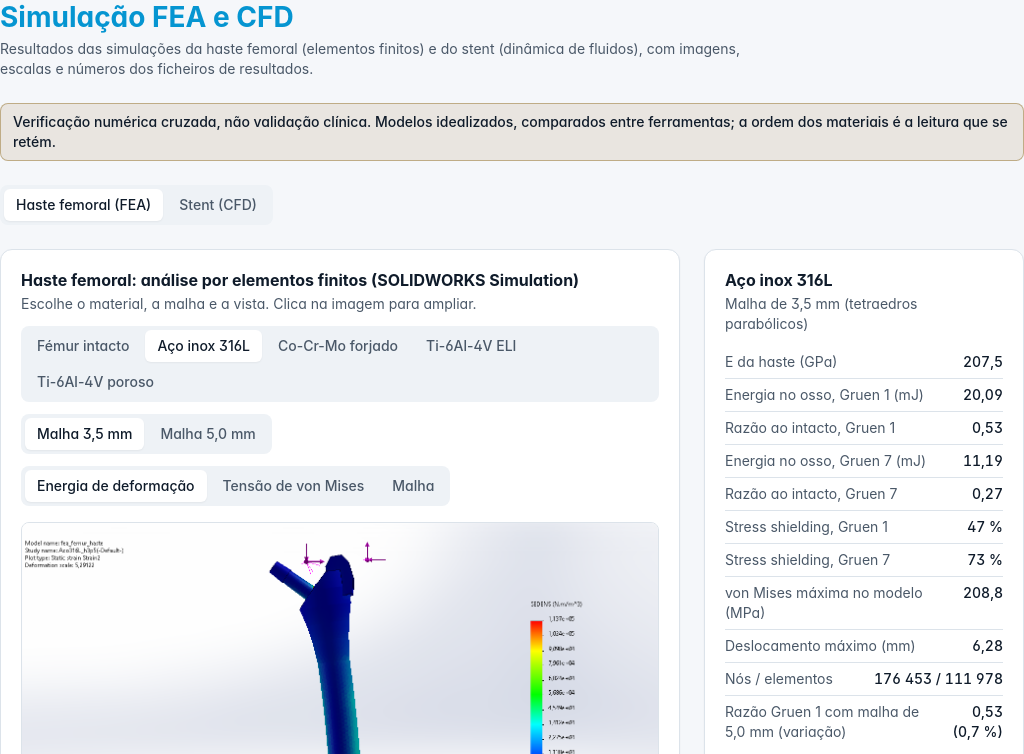
Test case: mapas de von Mises do MAPDL › o separador 'Tensão de von Mises' mostra a imagem do MAPDL, o corte, os máximos e a nota da malha
This screenshot has width=1024, height=754.
What coordinates should you click on to do the following:
click the radio button labelled "Tensão de von Mises"
I would click on:
 (293, 486)
Its box is left=211, top=470, right=376, bottom=502.
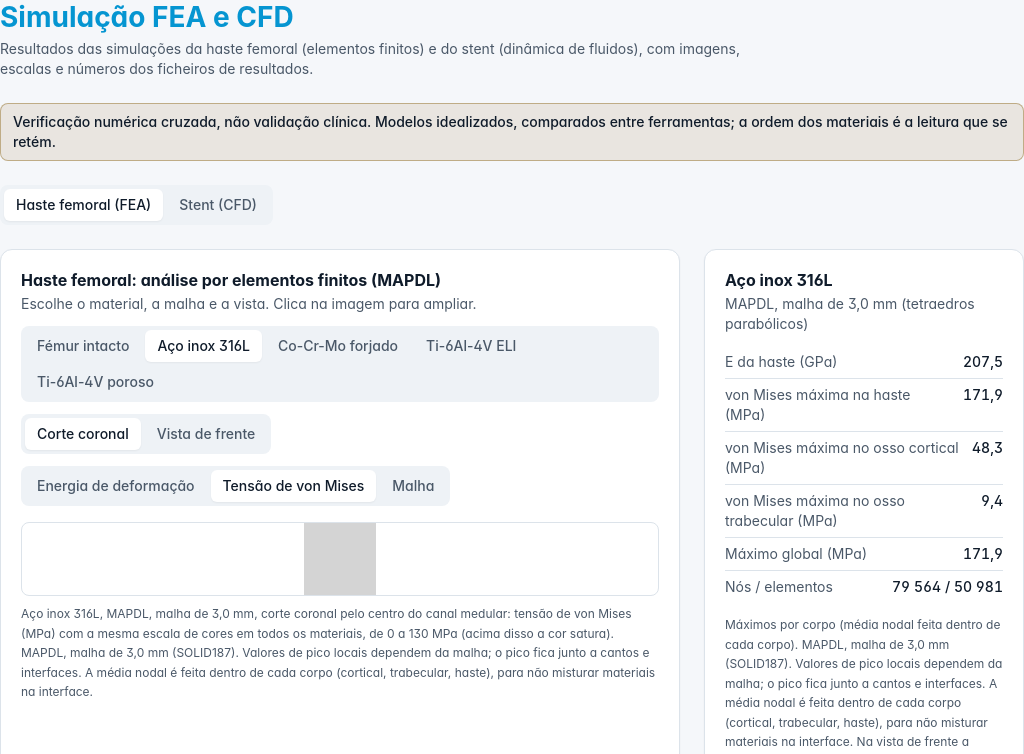
Result: the radio button labelled "Malha 5,0 mm" is gone
What coordinates should you click on to do the following:
click the radio button labelled "Vista de frente"
I would click on:
 (206, 434)
Its box is left=145, top=418, right=267, bottom=450.
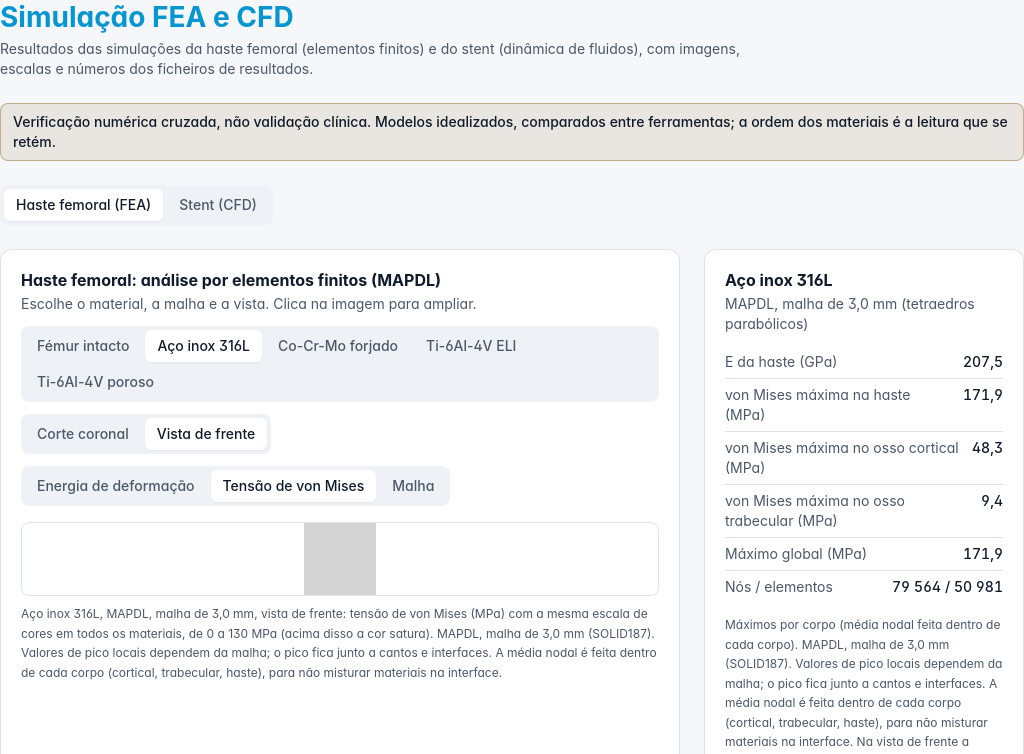
What coordinates should you click on to do the following:
click the radio button labelled "Ti-6Al-4V poroso"
I would click on:
 (95, 382)
Its box is left=25, top=366, right=166, bottom=398.
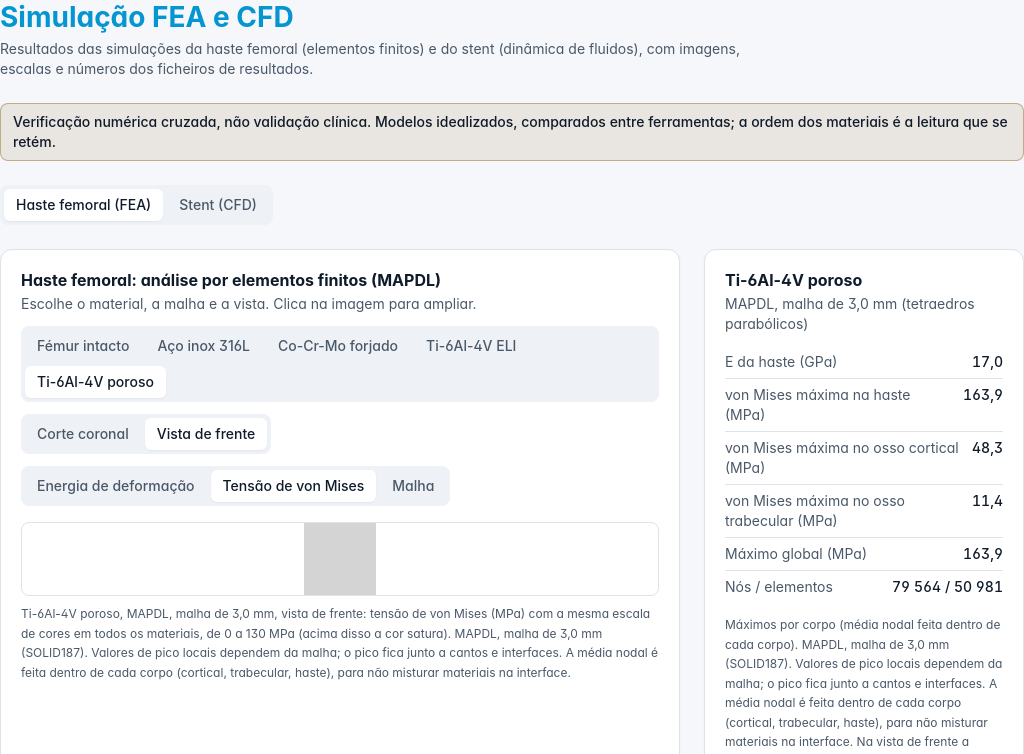
Expected: the text "Razão ao intacto: energia de deformação do osso" is not shown
Result: the text "dependem da malha" is shown at left=21, top=606, right=658, bottom=680
Result: the element that starts with "E da haste (GPa)" shows "von Mises máxima na haste" at left=725, top=386, right=910, bottom=423
// o fémur intacto não tem haste
What coordinates should you click on to do the following:
click the radio button labelled "Fémur intacto"
I would click on:
 (83, 346)
Its box is left=25, top=330, right=141, bottom=362.
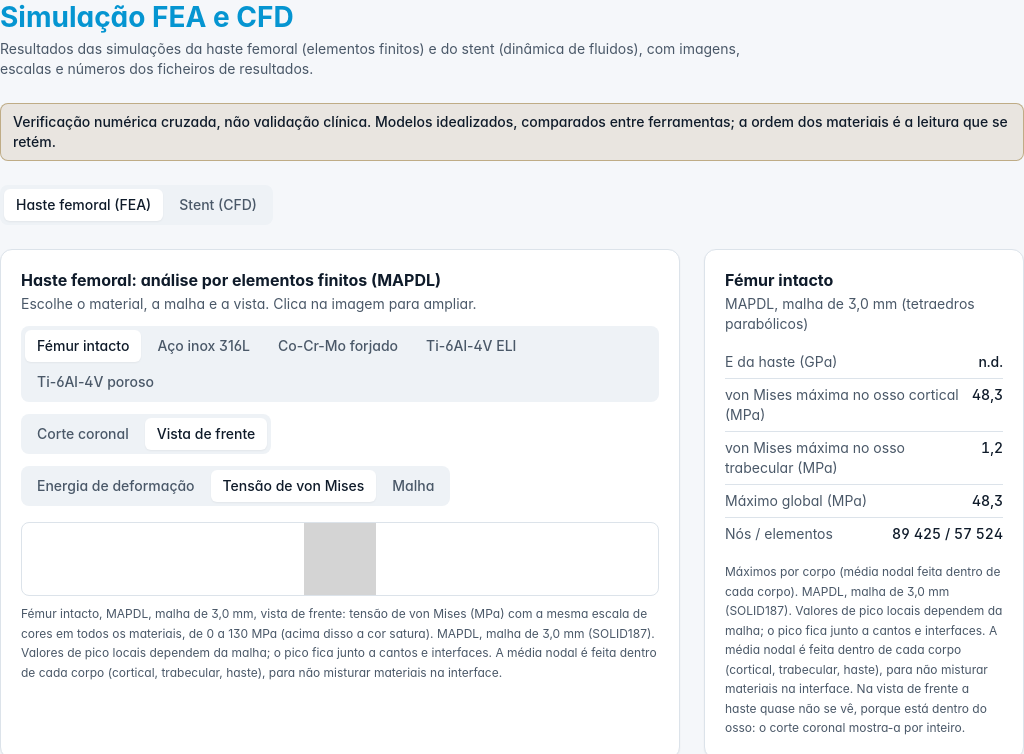
Result: the text "na haste" is gone
